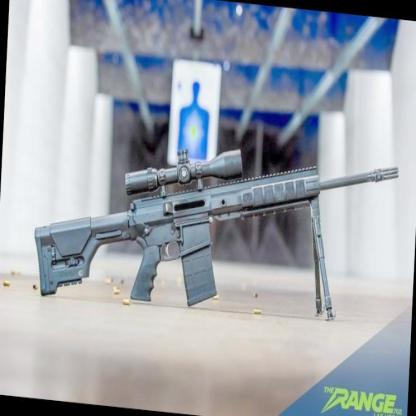rifle: (31, 122, 405, 333)
